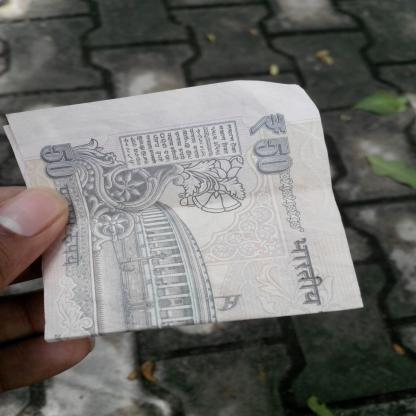Old50Back: (0, 80, 366, 343)
